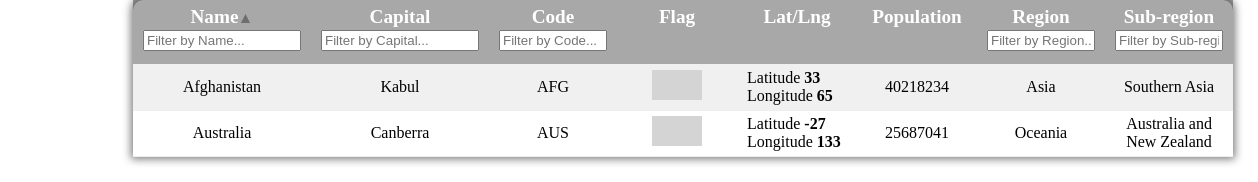
Test: CountriesTable › Row Actions Tests › should show loader on row mouse down
Press the mouse on the row that starts with "Afghanistan": point(683, 87) [133,64,1233,111]
Wait 50 ms
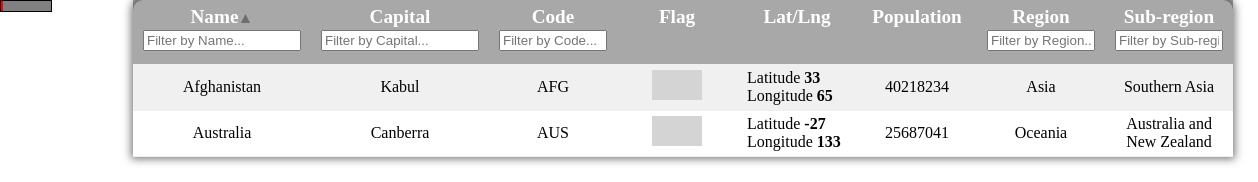
Result: the element with class "loader" is shown at [0,0,52,12]
